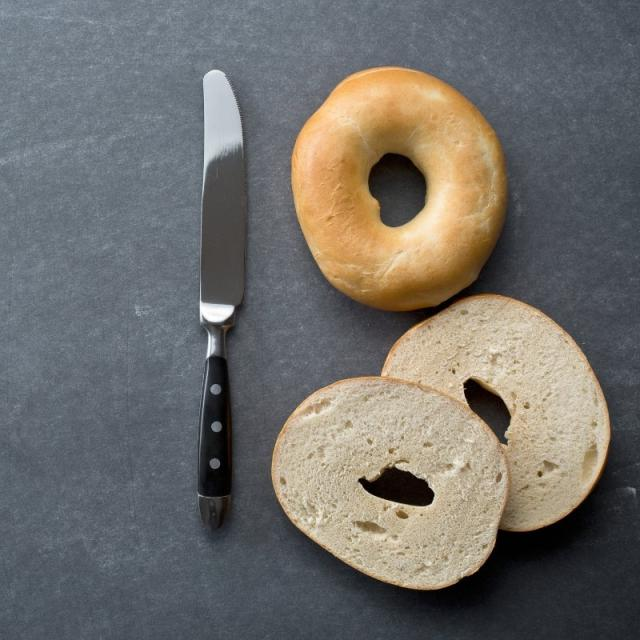Bagel: (381, 295, 610, 531), (292, 68, 508, 310), (271, 378, 509, 589)
